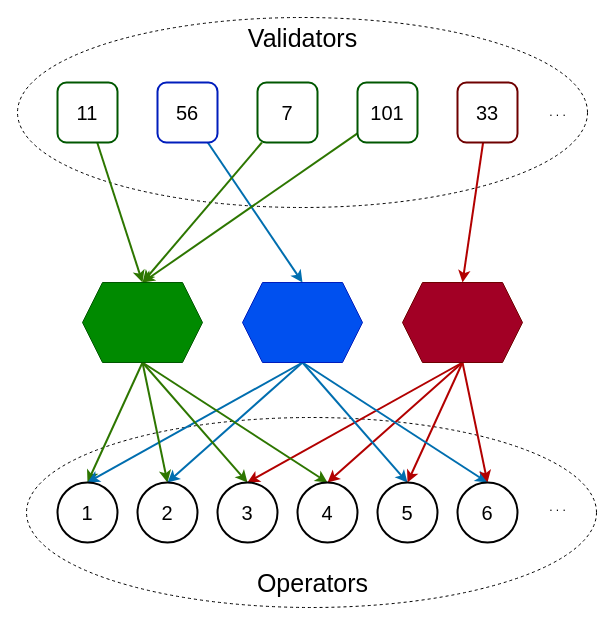
Image size: 614x625. Some labels were removed from this diagram. The centre of each missing label's shape, as x and y in pixels:
"Committee 0x713..." belongs at (x=462, y=322).
"Committee 0xa3e..." belongs at (x=142, y=322).
"Committee 0xbd3..." belongs at (x=302, y=322).
